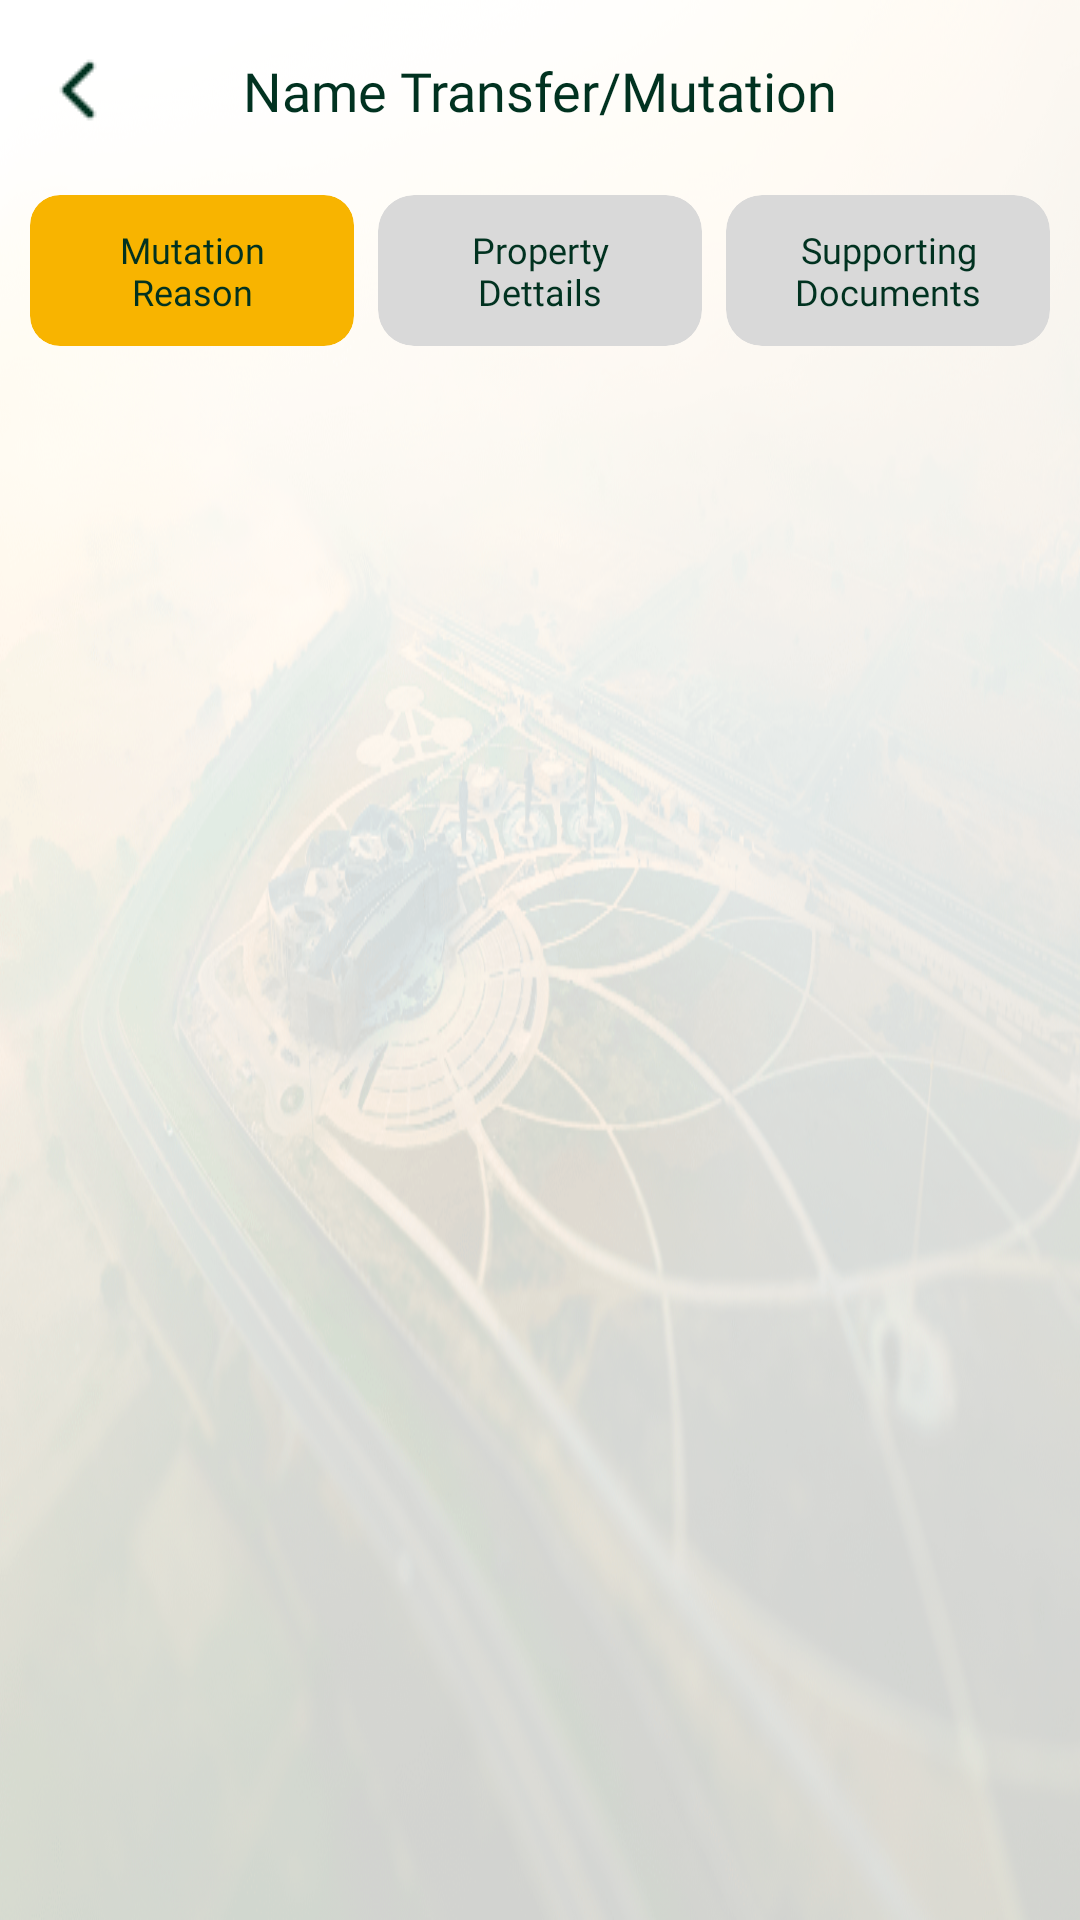

Where to tap for icons on this 1080x1920 app screen, as point (x, y):
left: point (78, 90)
